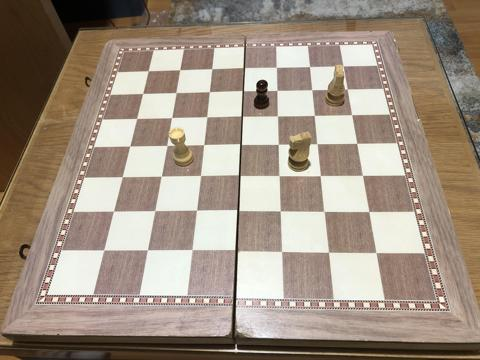xcorner: (273, 170, 286, 183), (173, 64, 185, 77), (141, 65, 154, 77), (340, 83, 353, 95), (270, 85, 283, 97), (202, 86, 214, 99), (271, 110, 283, 123), (314, 170, 327, 182), (193, 171, 206, 183), (154, 171, 167, 183), (116, 171, 128, 184), (370, 247, 382, 260), (230, 246, 243, 258), (141, 245, 154, 257), (336, 60, 348, 72), (303, 61, 315, 73), (270, 62, 282, 74), (237, 63, 249, 75), (205, 64, 217, 76), (305, 84, 317, 96), (236, 86, 248, 98), (169, 87, 181, 99), (136, 88, 148, 100), (345, 109, 357, 121), (308, 110, 320, 122), (235, 111, 247, 123), (200, 112, 212, 124), (165, 112, 177, 124), (130, 113, 142, 125), (350, 138, 362, 150), (311, 138, 323, 150), (272, 139, 284, 151), (234, 139, 246, 151), (197, 140, 209, 152), (160, 140, 172, 152), (123, 141, 135, 153), (356, 170, 368, 182), (233, 171, 245, 183), (363, 206, 375, 218), (318, 206, 330, 218), (275, 206, 287, 218), (232, 206, 244, 218), (190, 206, 202, 218), (148, 206, 160, 218), (108, 206, 120, 218), (323, 247, 335, 259), (276, 247, 288, 259), (186, 246, 198, 258), (98, 245, 110, 257)
